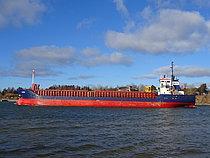Ship: (15, 59, 199, 113)
